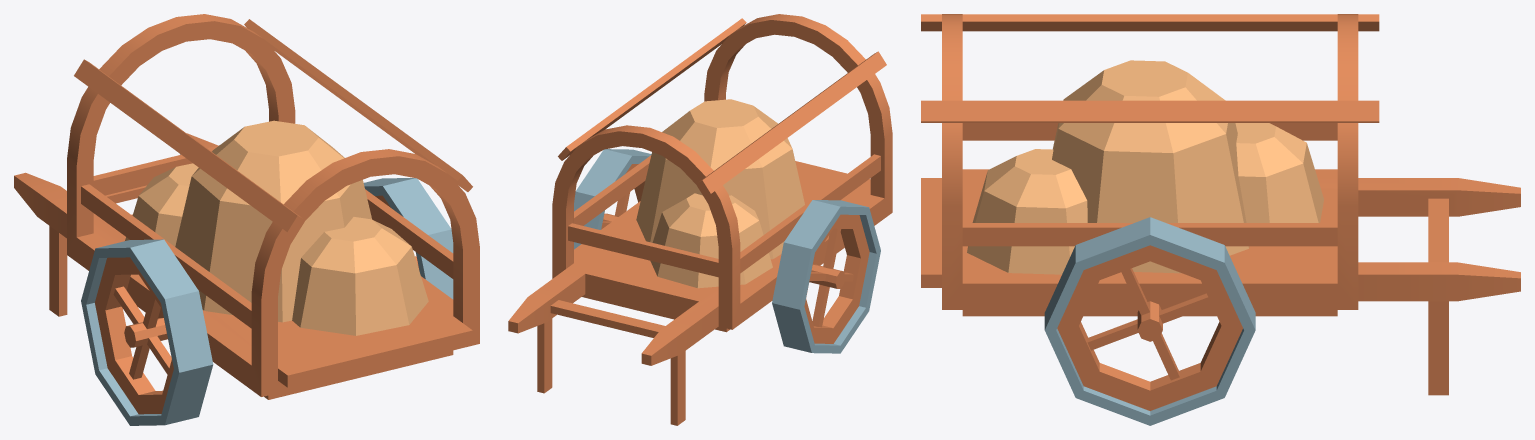
The model's file is cartHigh.dae.
The picture shows the model from 3 angles, left to right: view 1: azimuth 30°, elevation 25°; view 2: azimuth 150°, elevation 25°; view 3: azimuth 270°, elevation 25°; orthographic projection. The views are drawn at different scales.
Visible parts, largest first — view 1: cartHigh, hay, wheel (×2); view 2: cartHigh, hay, wheel (×2); view 3: cartHigh, hay, wheel.
Part boxes in pixels (box(x1,y1,x2,y2)): cartHigh: box(14, 14, 479, 399); hay: box(125, 120, 428, 335); wheel (×2): box(81, 178, 453, 425); cartHigh: box(508, 14, 892, 425); hay: box(636, 99, 804, 288); wheel (×2): box(574, 149, 880, 353); cartHigh: box(921, 14, 1520, 395); hay: box(967, 60, 1323, 274); wheel: box(1044, 217, 1255, 425).
Size of the model in its own units: 0.8525 by 0.8605 by 1.44.
